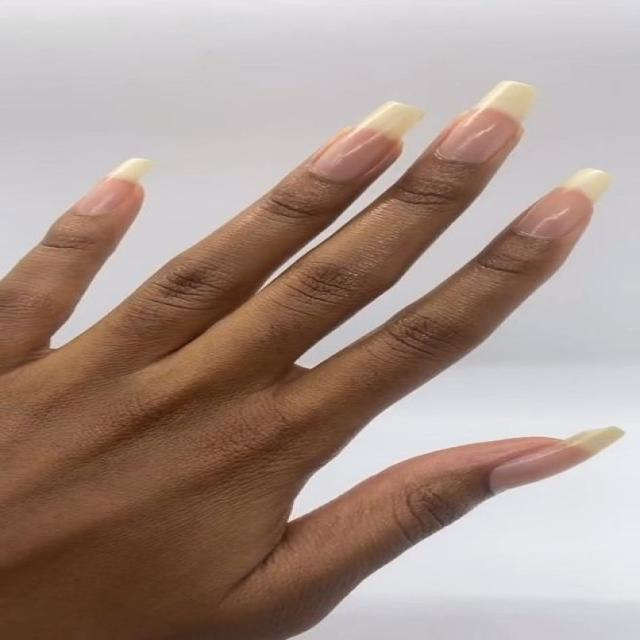Fingernail: (490, 426, 628, 496), (312, 101, 424, 183), (435, 81, 534, 163), (517, 168, 613, 239), (74, 158, 156, 215)
